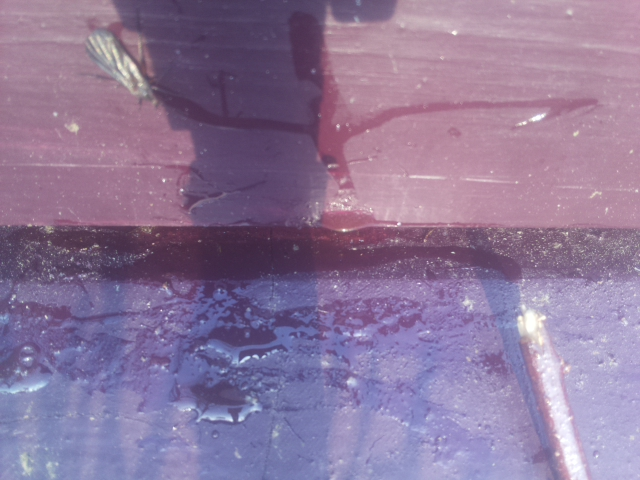ant: (79, 26, 159, 109), (0, 338, 45, 391)
